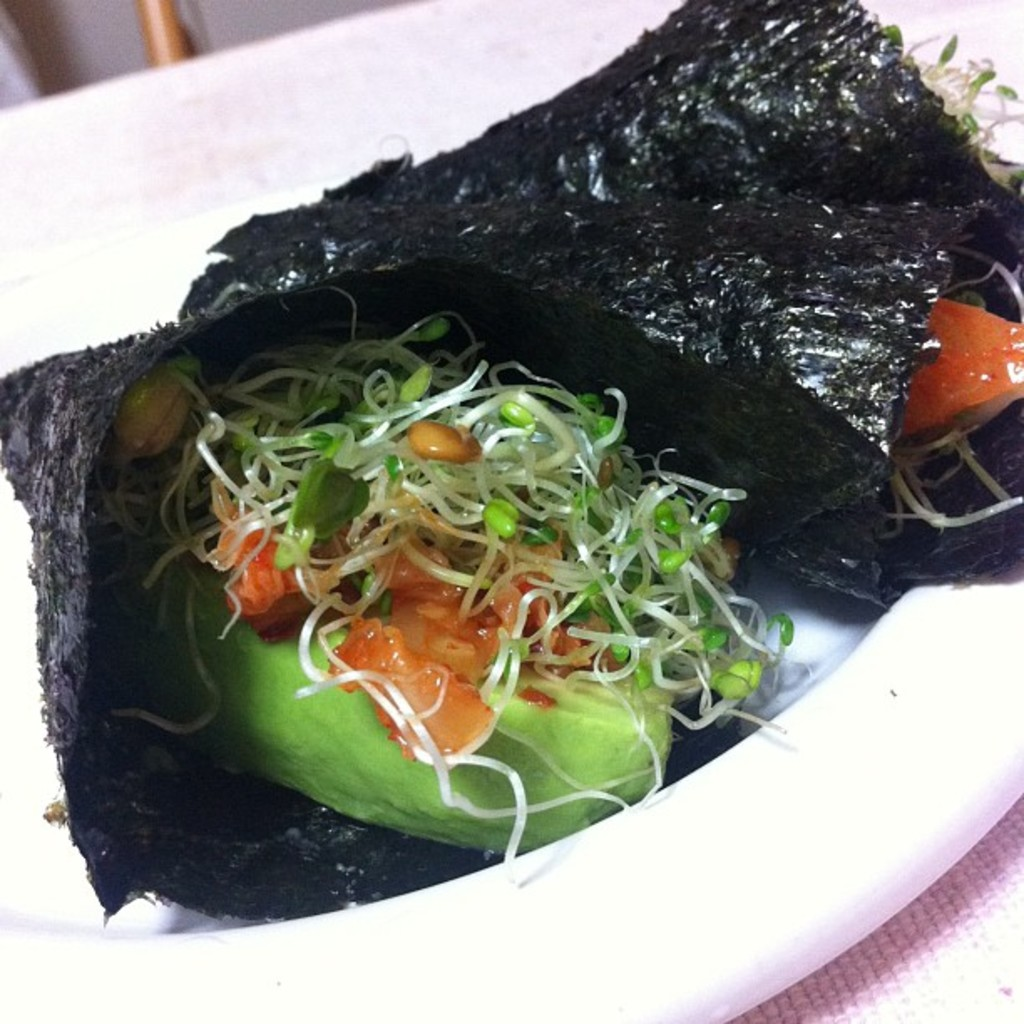sushi: (7, 0, 1022, 922)
